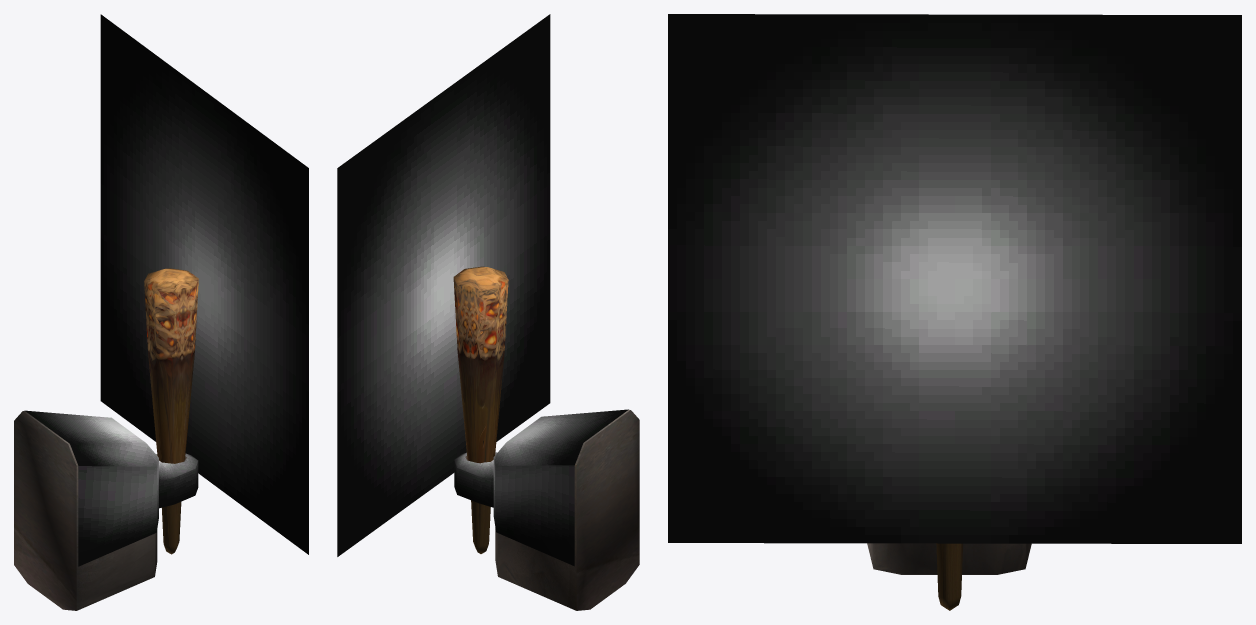
File: torch.obj
3 views of the same model, side by side, from view 1: azimuth 30°, elevation 25°; view 2: azimuth 150°, elevation 25°; view 3: azimuth 270°, elevation 25° (orthographic). The views are drawn at different scales.
Visible parts, largest first — view 1: Geoset0, Geoset1; view 2: Geoset0, Geoset1; view 3: Geoset0, Geoset1.
Boxes of the visible parts, bbox=[...] form: Geoset0: bbox=[24, 14, 308, 566]; Geoset1: bbox=[14, 268, 198, 610]; Geoset0: bbox=[337, 14, 628, 566]; Geoset1: bbox=[453, 266, 639, 610]; Geoset0: bbox=[668, 14, 1241, 543]; Geoset1: bbox=[867, 543, 1031, 610].
Bounding box in the file's own units: 0.4866 × 1.33 × 1.09.
Materials: 2 (2 with a texture image).
